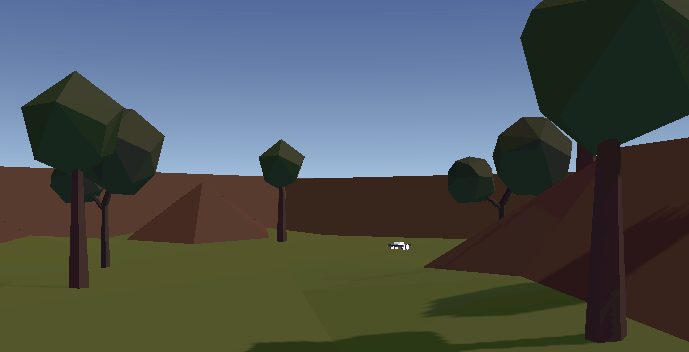tree: (515, 1, 689, 342), (19, 69, 127, 288), (49, 106, 168, 267), (443, 111, 572, 214), (255, 131, 309, 243)
